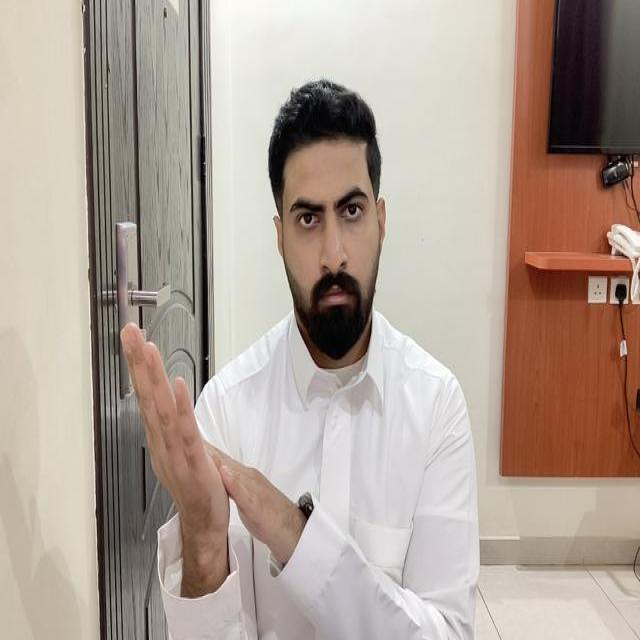complaint: (116, 318, 318, 580)
